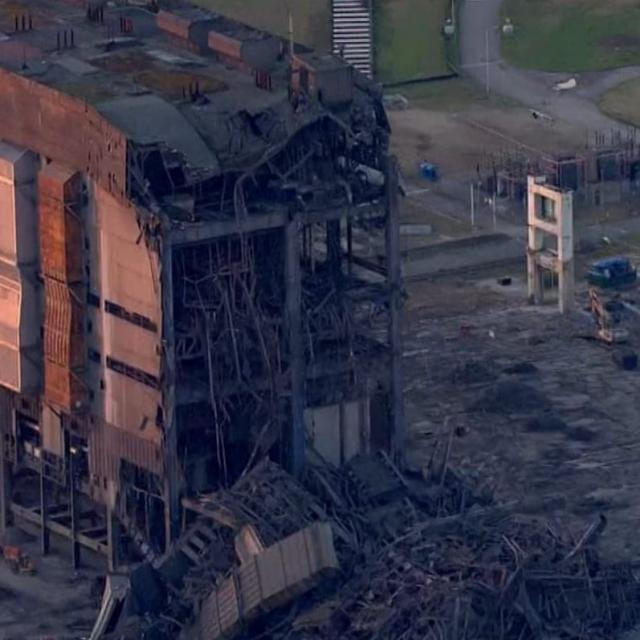collapsed_building: (165, 192, 610, 639)
